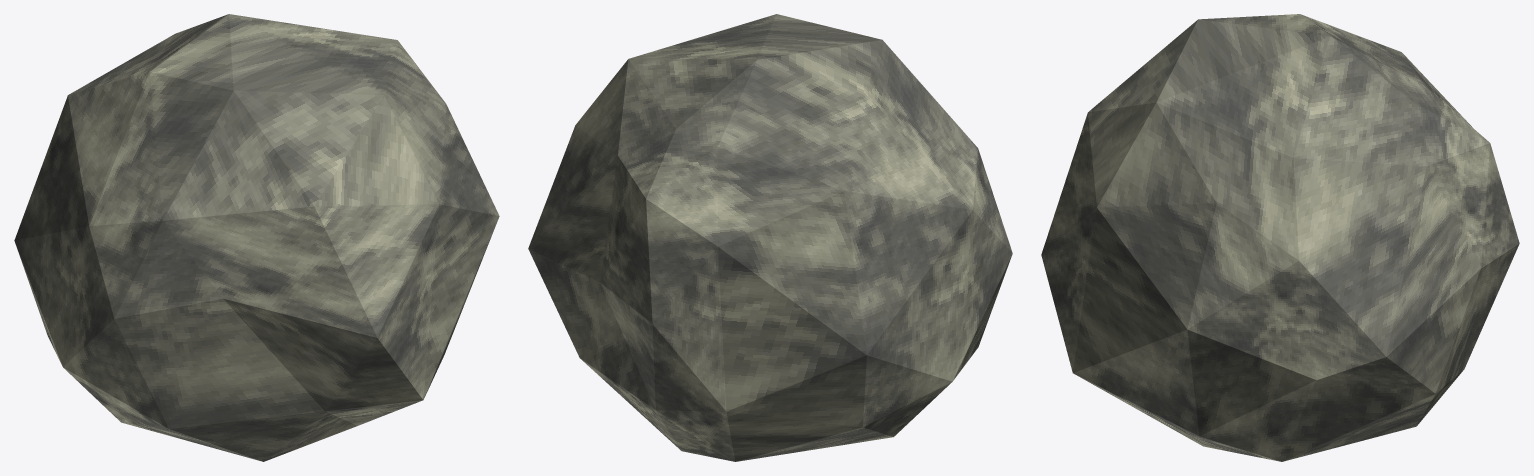
The model's file is Boulder_A1.fbx.
3 views of the same model, side by side, from view 1: azimuth 30°, elevation 25°; view 2: azimuth 150°, elevation 25°; view 3: azimuth 270°, elevation 25° (orthographic). The views are drawn at different scales.
Visible parts, largest first — view 1: Boulder_A1; view 2: Boulder_A1; view 3: Boulder_A1.
Part boxes in pixels (x1,y1,x2,y2): Boulder_A1: (14, 14, 499, 461); Boulder_A1: (528, 14, 1012, 461); Boulder_A1: (1041, 14, 1519, 461).
Bounding box in the file's own units: 3.53 × 3.52 × 3.7.
